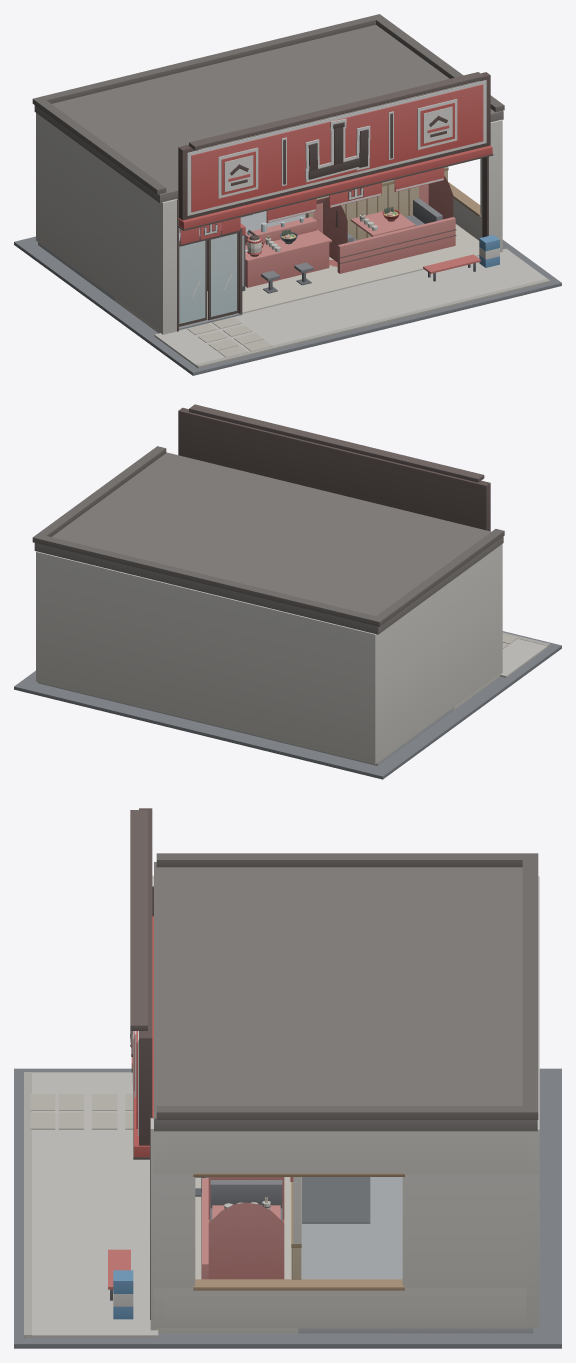
File: ramen-yama.glb
3 renders of one model, top to bottom at view 1: azimuth 30°, elevation 25°; view 2: azimuth 150°, elevation 25°; view 3: azimuth 270°, elevation 25°, orthographic. The views are drawn at different scales.
Visible parts, largest first — view 1: geometry_0; view 2: geometry_0; view 3: geometry_0.
Boxes of the visible parts, x1,y1,x2,y2 form: geometry_0: [14, 14, 561, 375]; geometry_0: [14, 404, 561, 779]; geometry_0: [14, 808, 561, 1348].
Bounding box in the file's own units: 17.6 × 8.74 × 14.8.
